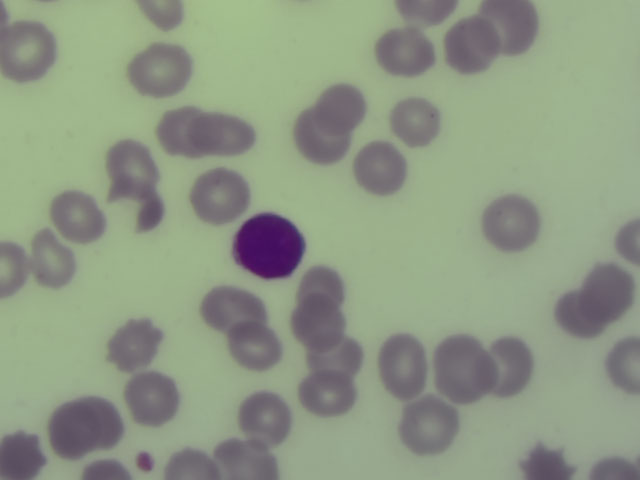Platelets: (130, 448, 157, 474)
RBC: (482, 333, 533, 404), (377, 329, 427, 399), (581, 262, 634, 325), (198, 286, 265, 332), (58, 397, 115, 451), (126, 372, 183, 426), (107, 316, 164, 370), (50, 188, 107, 242), (107, 177, 164, 231), (299, 366, 359, 417), (484, 197, 540, 251), (436, 341, 492, 395), (404, 401, 460, 455), (239, 391, 295, 445), (305, 330, 361, 384), (289, 297, 345, 351), (295, 260, 351, 314), (225, 318, 281, 372), (28, 231, 84, 285), (191, 168, 247, 222), (106, 137, 162, 191), (351, 140, 407, 194), (389, 92, 445, 146), (443, 18, 499, 72), (379, 26, 435, 80), (296, 107, 352, 161), (155, 103, 211, 157), (132, 43, 188, 97), (479, 1, 535, 54), (210, 437, 279, 480), (1, 21, 55, 75), (194, 111, 257, 157), (554, 289, 606, 337), (316, 82, 367, 129), (516, 443, 576, 480), (1, 431, 45, 480), (161, 443, 218, 480), (607, 332, 640, 394), (1, 237, 30, 299), (397, 1, 457, 26)
WBC: (226, 210, 313, 283)
